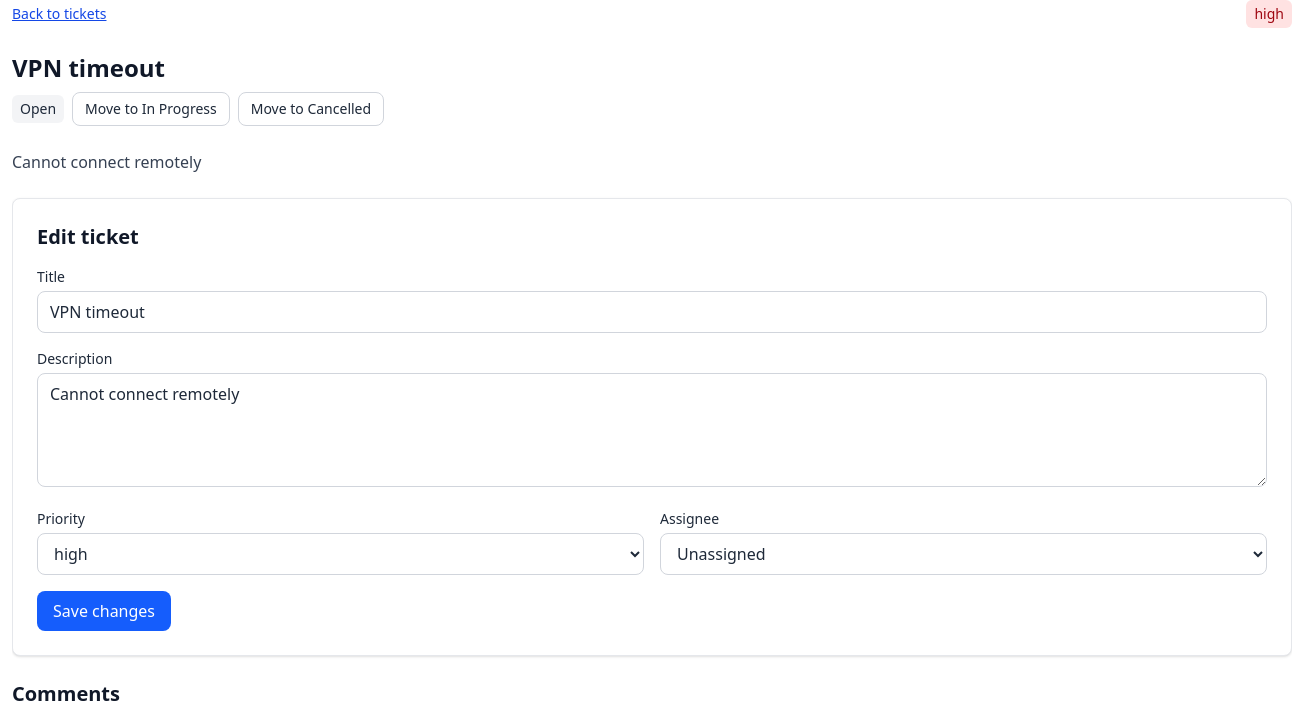
Test: TicketDetailPage › shows update failure from store action
Replace the text in the field labelled "Title" with "Updated VPN" at (652, 312), box [37,291,1267,333]
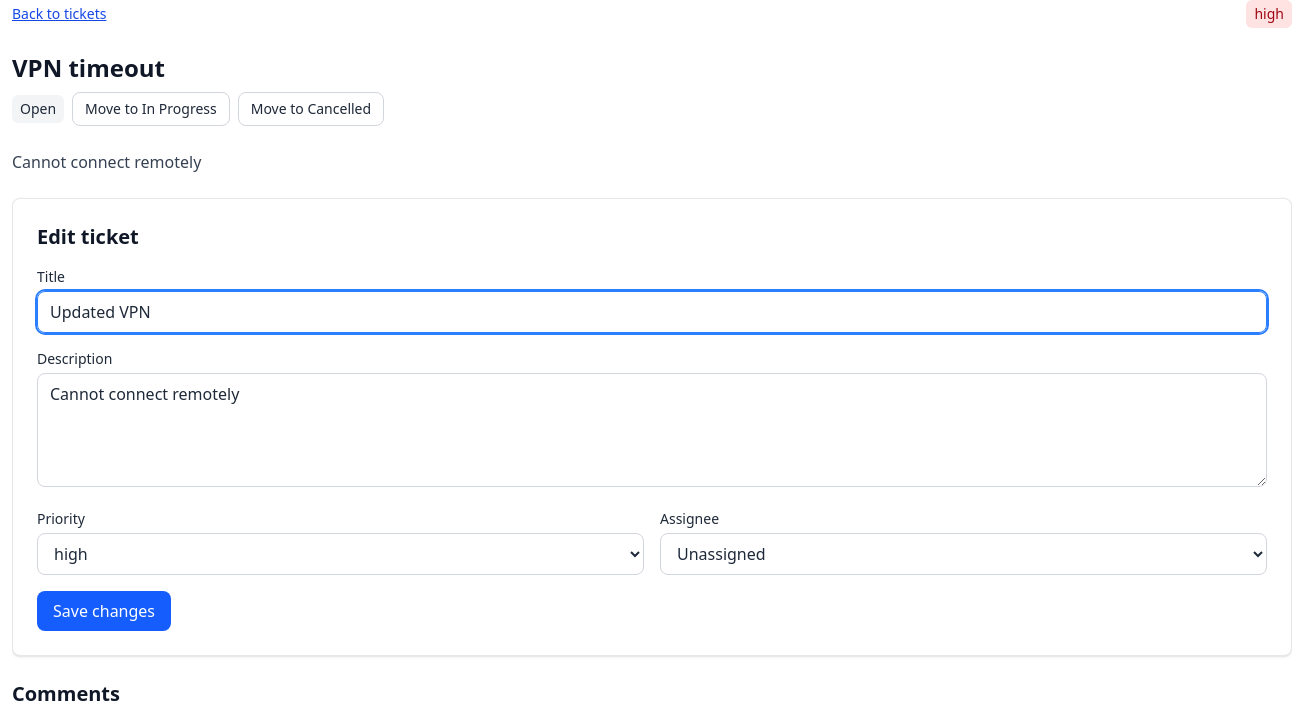
Click the button "Save changes" at (104, 611), box [37,591,171,631]
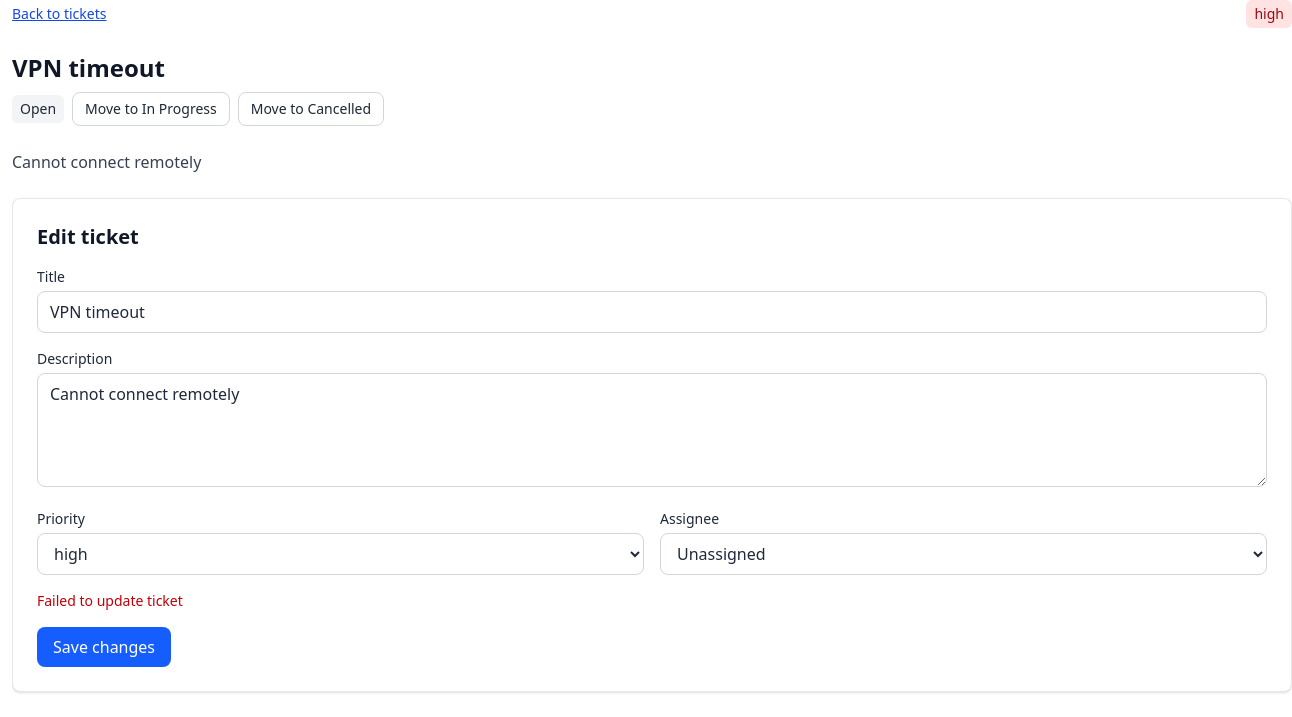
expect the message reads "Failed to update ticket": met, box [37,591,183,610]
